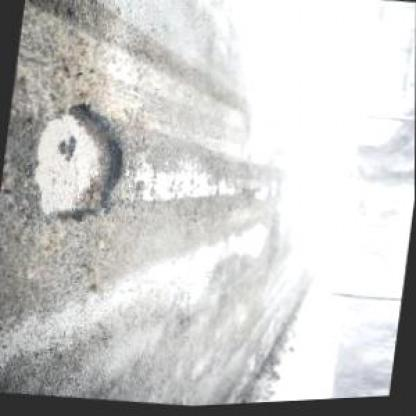pothole: (25, 93, 139, 234)
